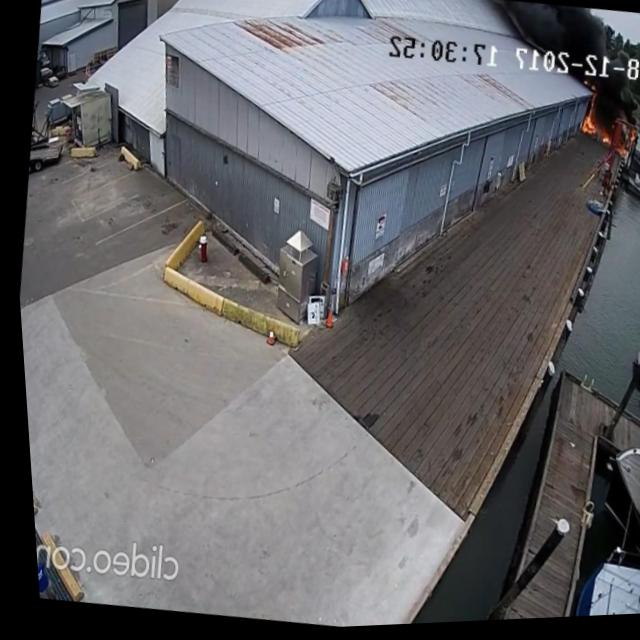fire: (576, 97, 600, 143), (612, 148, 627, 163), (598, 136, 611, 150)
